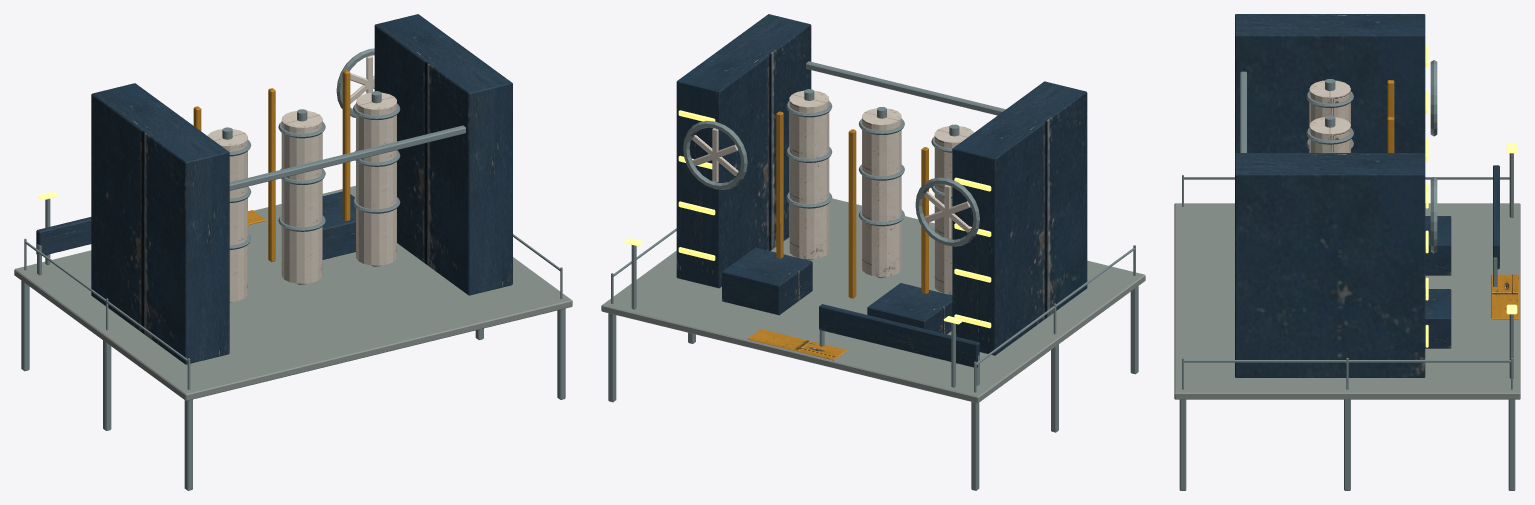
The model's file is afterglow.glb.
3 views of the same model, side by side, from view 1: azimuth 30°, elevation 25°; view 2: azimuth 150°, elevation 25°; view 3: azimuth 270°, elevation 25° (orthographic). The views are drawn at different scales.
Parts seen in each view (by area): view 1: static_signature_paint, static_signature_deck, static_signature_steel; view 2: static_signature_paint, static_signature_deck, static_signature_steel, static_signature_amber, relay_fan_left_signature_steel, relay_fan_right_signature_steel, relay_fan_left_signature_paint, relay_fan_right_signature_paint; view 3: static_signature_paint, static_signature_deck, static_signature_steel, static_signature_amber, relay_fan_left_signature_steel, relay_fan_right_signature_steel.
Boxes of the visible parts, left/top/right/bottom form: static_signature_paint: left=36, top=14, right=512, bottom=364; static_signature_deck: left=14, top=185, right=572, bottom=400; static_signature_steel: left=21, top=91, right=565, bottom=490; static_signature_paint: left=676, top=14, right=1087, bottom=367; static_signature_deck: left=601, top=198, right=1145, bottom=403; static_signature_steel: left=608, top=61, right=1138, bottom=490; static_signature_amber: left=624, top=110, right=991, bottom=328; relay_fan_left_signature_steel: left=915, top=177, right=979, bottom=246; relay_fan_right_signature_steel: left=683, top=120, right=747, bottom=189; relay_fan_left_signature_paint: left=924, top=185, right=970, bottom=239; relay_fan_right_signature_paint: left=692, top=128, right=738, bottom=182; static_signature_paint: left=1235, top=14, right=1518, bottom=377; static_signature_deck: left=1174, top=203, right=1520, bottom=399; static_signature_steel: left=1179, top=71, right=1515, bottom=490; static_signature_amber: left=1425, top=44, right=1517, bottom=347; relay_fan_left_signature_steel: left=1430, top=60, right=1437, bottom=136; relay_fan_right_signature_steel: left=1430, top=177, right=1437, bottom=253.
Bounding box in the file's own units: 26 × 19.4 × 20.
Materials: 4 (1 with a texture image).
